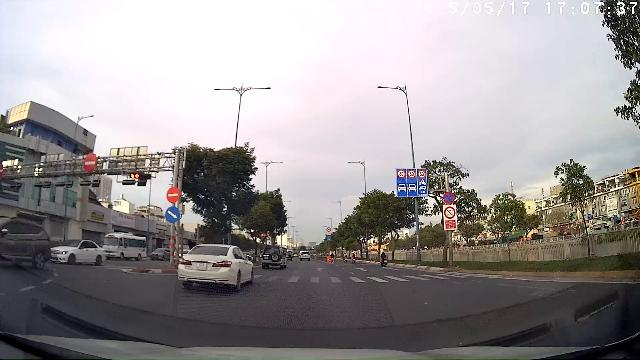102-cam-di-nguoc-chieu: (166, 187, 182, 203), (84, 152, 96, 172)
127-toc-do-toi-da-50: (418, 170, 426, 178)
127-toc-do-toi-da-60: (397, 170, 405, 178), (408, 170, 416, 178)
130-cam-dung-va-do-xe: (444, 192, 454, 204)
302a-huong-phai-di-vong-chuong-ngai-vat-1: (164, 206, 180, 222)
